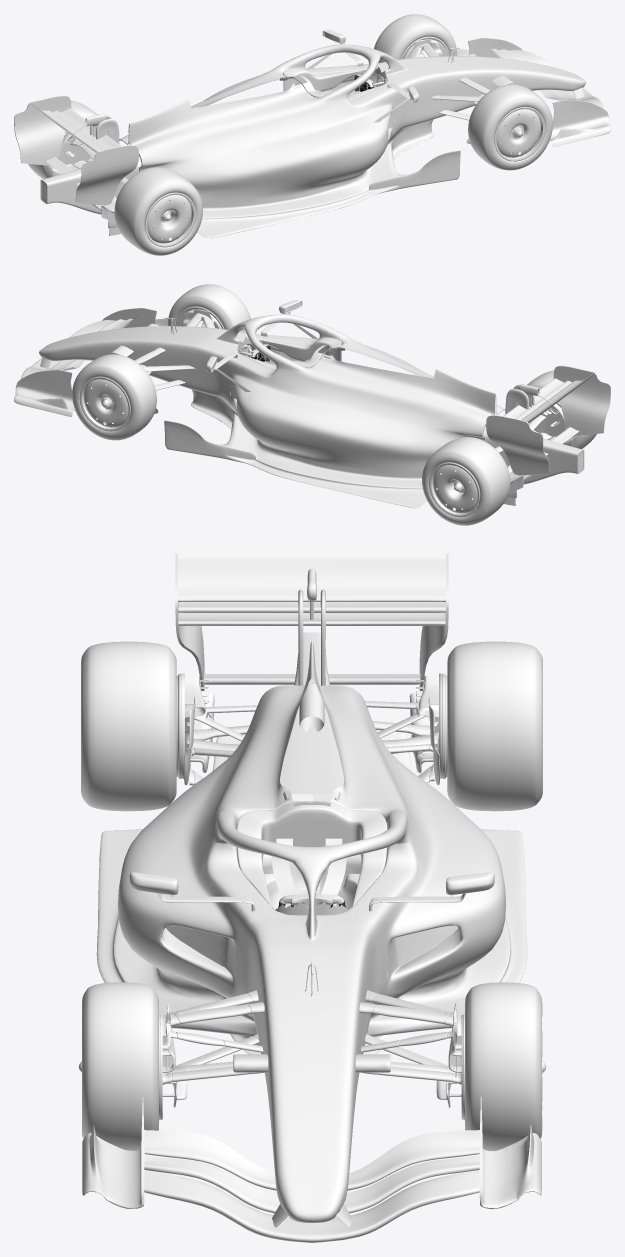
The model's file is jogo-f1-cabine.glb.
The picture shows the model from 3 angles, top to bottom: view 1: azimuth 30°, elevation 25°; view 2: azimuth 150°, elevation 25°; view 3: azimuth 270°, elevation 25°; orthographic projection. The views are drawn at different scales.
Parts seen in each view (by area): view 1: c, carb, rodaTE_pneu, rodaFE_pneu, rodaTE_aro, rodaFE_aro, rodaFD_pneu, rodaTD_pneu; view 2: c, carb, rodaTD_pneu, rodaFD_pneu, rodaTD_aro, rodaFD_aro, rodaFE_pneu, rodaTE_pneu; view 3: c, carb, rodaTE_pneu, rodaTD_pneu, rodaFD_pneu, rodaFE_pneu, f, metal.
Part boxes in pixels (x1,y1,x2,y2): c: [31, 30, 610, 205]; carb: [14, 39, 513, 238]; rodaTE_pneu: [114, 167, 202, 255]; rodaFE_pneu: [468, 84, 552, 170]; rodaTE_aro: [145, 192, 195, 247]; rodaFE_aro: [494, 106, 545, 161]; rodaFD_pneu: [374, 14, 457, 62]; rodaTD_pneu: [28, 100, 97, 179]; c: [14, 300, 593, 475]; carb: [111, 309, 610, 508]; rodaTD_pneu: [422, 437, 510, 525]; rodaFD_pneu: [72, 354, 156, 440]; rodaTD_aro: [429, 462, 479, 517]; rodaFD_aro: [79, 376, 130, 431]; rodaFE_pneu: [168, 284, 250, 332]; rodaTE_pneu: [527, 370, 596, 449]; c: [82, 556, 541, 1242]; carb: [96, 554, 527, 1120]; rodaTE_pneu: [81, 641, 176, 811]; rodaTD_pneu: [447, 641, 542, 811]; rodaFD_pneu: [465, 982, 542, 1150]; rodaFE_pneu: [82, 982, 158, 1150]; f: [271, 683, 346, 997]; metal: [264, 873, 359, 909].
Bounding box in the file's own units: 5.6 × 1.03 × 2.1.
11 materials, 1 textured.
